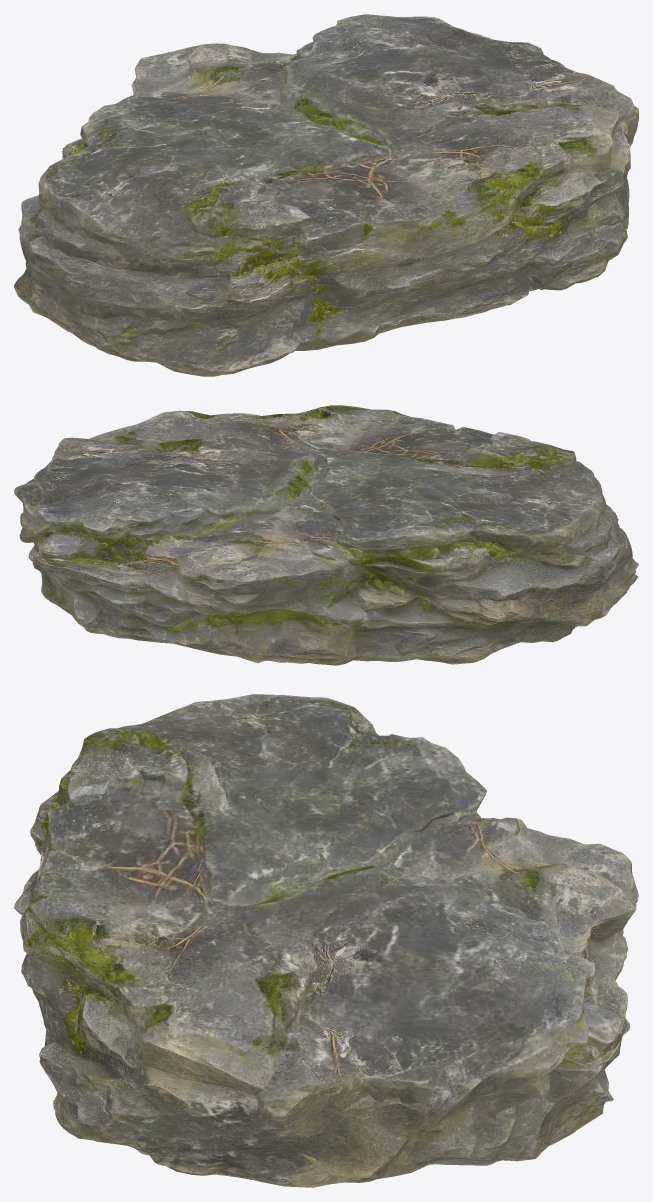
The model's file is rock-slab.glb.
3 views of the same model, one above another, from view 1: azimuth 30°, elevation 25°; view 2: azimuth 150°, elevation 25°; view 3: azimuth 270°, elevation 25° (orthographic). The views are drawn at different scales.
Visible parts, largest first — view 1: Mesh_0; view 2: Mesh_0; view 3: Mesh_0.
Boxes of the visible parts, <box> form: Mesh_0: <box>14,14,638,376</box>; Mesh_0: <box>14,405,638,665</box>; Mesh_0: <box>14,694,638,1187</box>.
Size of the model in its own units: 1.9 by 0.5179 by 1.34.
1 material, 1 textured.
